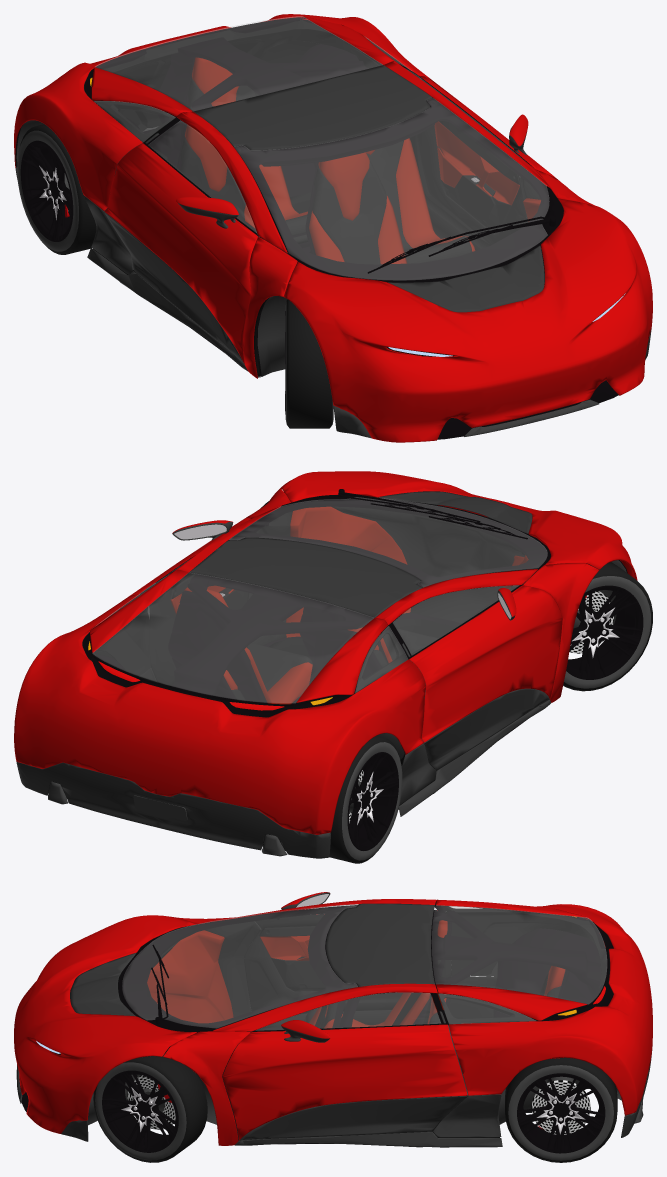
Rendered from car.glb.
3 renders of one model, top to bottom at view 1: azimuth 30°, elevation 25°; view 2: azimuth 150°, elevation 25°; view 3: azimuth 270°, elevation 25°, orthographic. The views are drawn at different scales.
Parts seen in each view (by area): view 1: BodyHood, BodyWindshield, BodyRearwindow, BodyDoorRColor1, BodyRearPanelsColor1, BodyRoofPanel, BodyWindshieldGasket, InteriorSeatsColor1, InteriorSeatsColor2, BodyPillars, InteriorRearPanels, InteriorPillar (+18 smaller); view 2: BodyRearPanelsColor1, BodyRearwindow, BodyWindshield, BodyDoorRColor1, BodyPanelsColor2, BodyRoofPanel, InteriorPillar, InteriorDashMid, BodyHood, BodyPillars, BodyWindshieldGasket, InteriorSeatsFrame1 (+21 smaller); view 3: BodyRearPanelsColor1, BodyWindshield, BodyDoorLColor1, BodyHood, BodyRearwindow, BodyRoofPanel, BodyPillars, BodyWindshieldGasket, BodyDoorLColor2, BodyPanelsColor2, InteriorPillar, InteriorDashSides (+22 smaller).
Part boxes in pixels (x1,y1,x2,y2): BodyHood: (283,198,652,442); BodyWindshield: (234,98,549,280); BodyRearwindow: (95,16,382,110); BodyDoorRColor1: (104,143,257,363); BodyRearPanelsColor1: (14,14,429,210); BodyRoofPanel: (193,65,432,150); BodyWindshieldGasket: (234,99,563,282); InteriorSeatsColor1: (185,57,475,264); InteriorSeatsColor2: (180,78,472,264); BodyPillars: (177,61,598,378); InteriorRearPanels: (15,19,420,210); InteriorPillar: (155,37,434,168); BodyRearPanelsColor1: (14,569,425,834); BodyRearwindow: (92,573,373,703); BodyWindshield: (229,497,547,587); BodyDoorRColor1: (409,585,562,742); BodyPanelsColor2: (16,700,550,858); BodyRoofPanel: (189,537,422,617); InteriorPillar: (171,574,417,701); InteriorDashMid: (331,503,528,623); BodyHood: (279,471,637,580); BodyPillars: (175,489,599,702); BodyWindshieldGasket: (230,497,550,587); InteriorSeatsFrame1: (168,591,381,703); BodyRearPanelsColor1: (436,899,652,1115); BodyWindshield: (122,904,357,1028); BodyDoorLColor1: (222,1024,467,1140); BodyHood: (14,915,196,1133); BodyRearwindow: (432,905,606,1003); BodyRoofPanel: (326,903,434,986); BodyPillars: (163,899,437,1145); BodyWindshieldGasket: (118,905,357,1032); BodyDoorLColor2: (240,1096,467,1140); BodyPanelsColor2: (16,1046,652,1147); InteriorPillar: (322,910,600,1027); InteriorDashSides: (147,930,233,1023).
Bounding box in the file's own units: 2.54 × 1.15 × 4.36.
22 materials, 3 textured.
